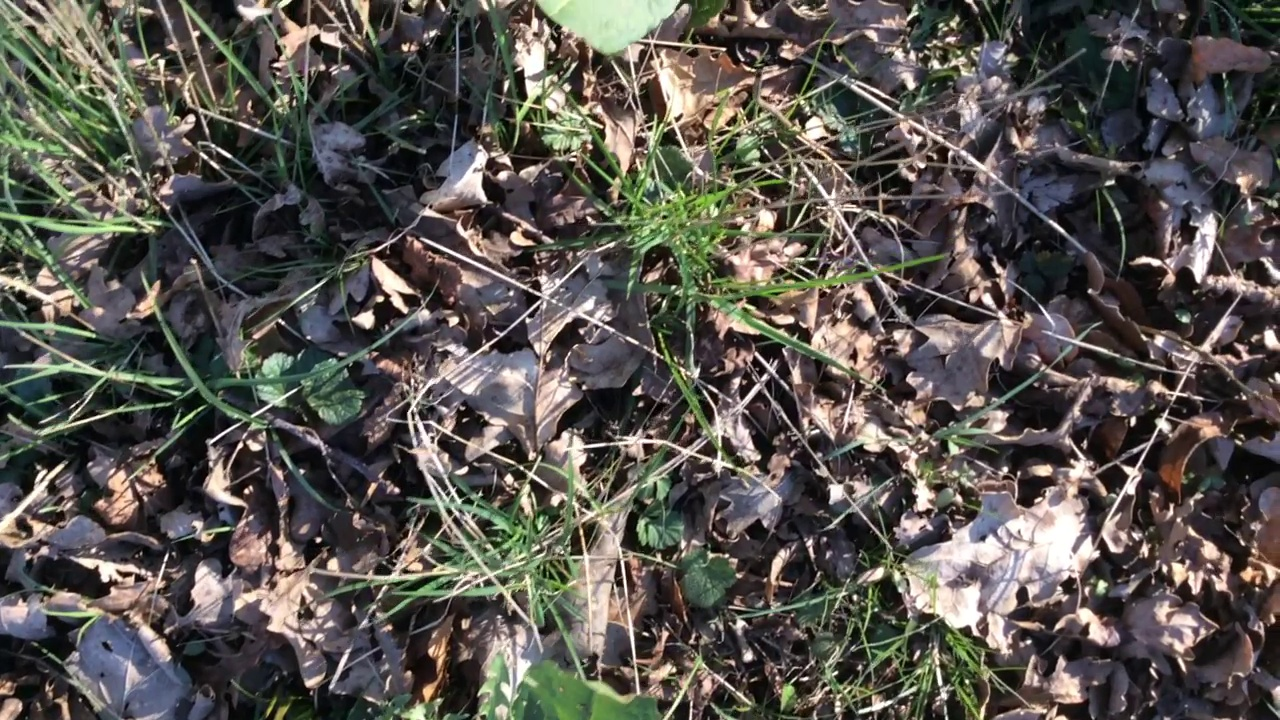rumex: (515, 662, 659, 720)
